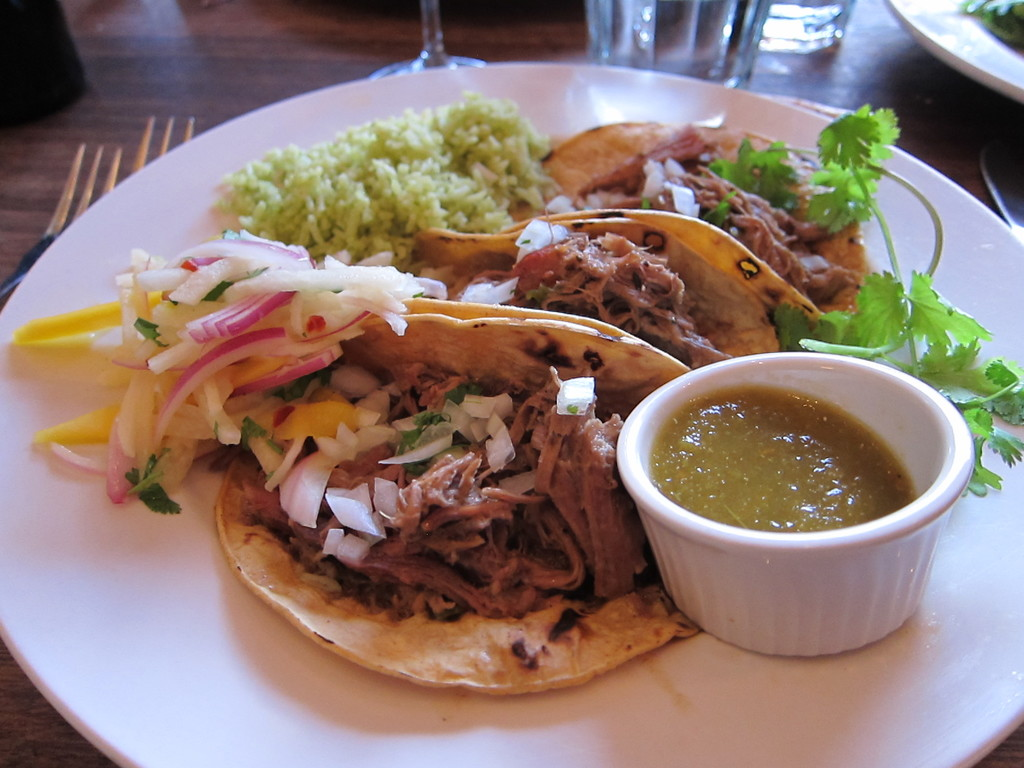taco: (200, 321, 680, 685), (499, 119, 867, 330)
